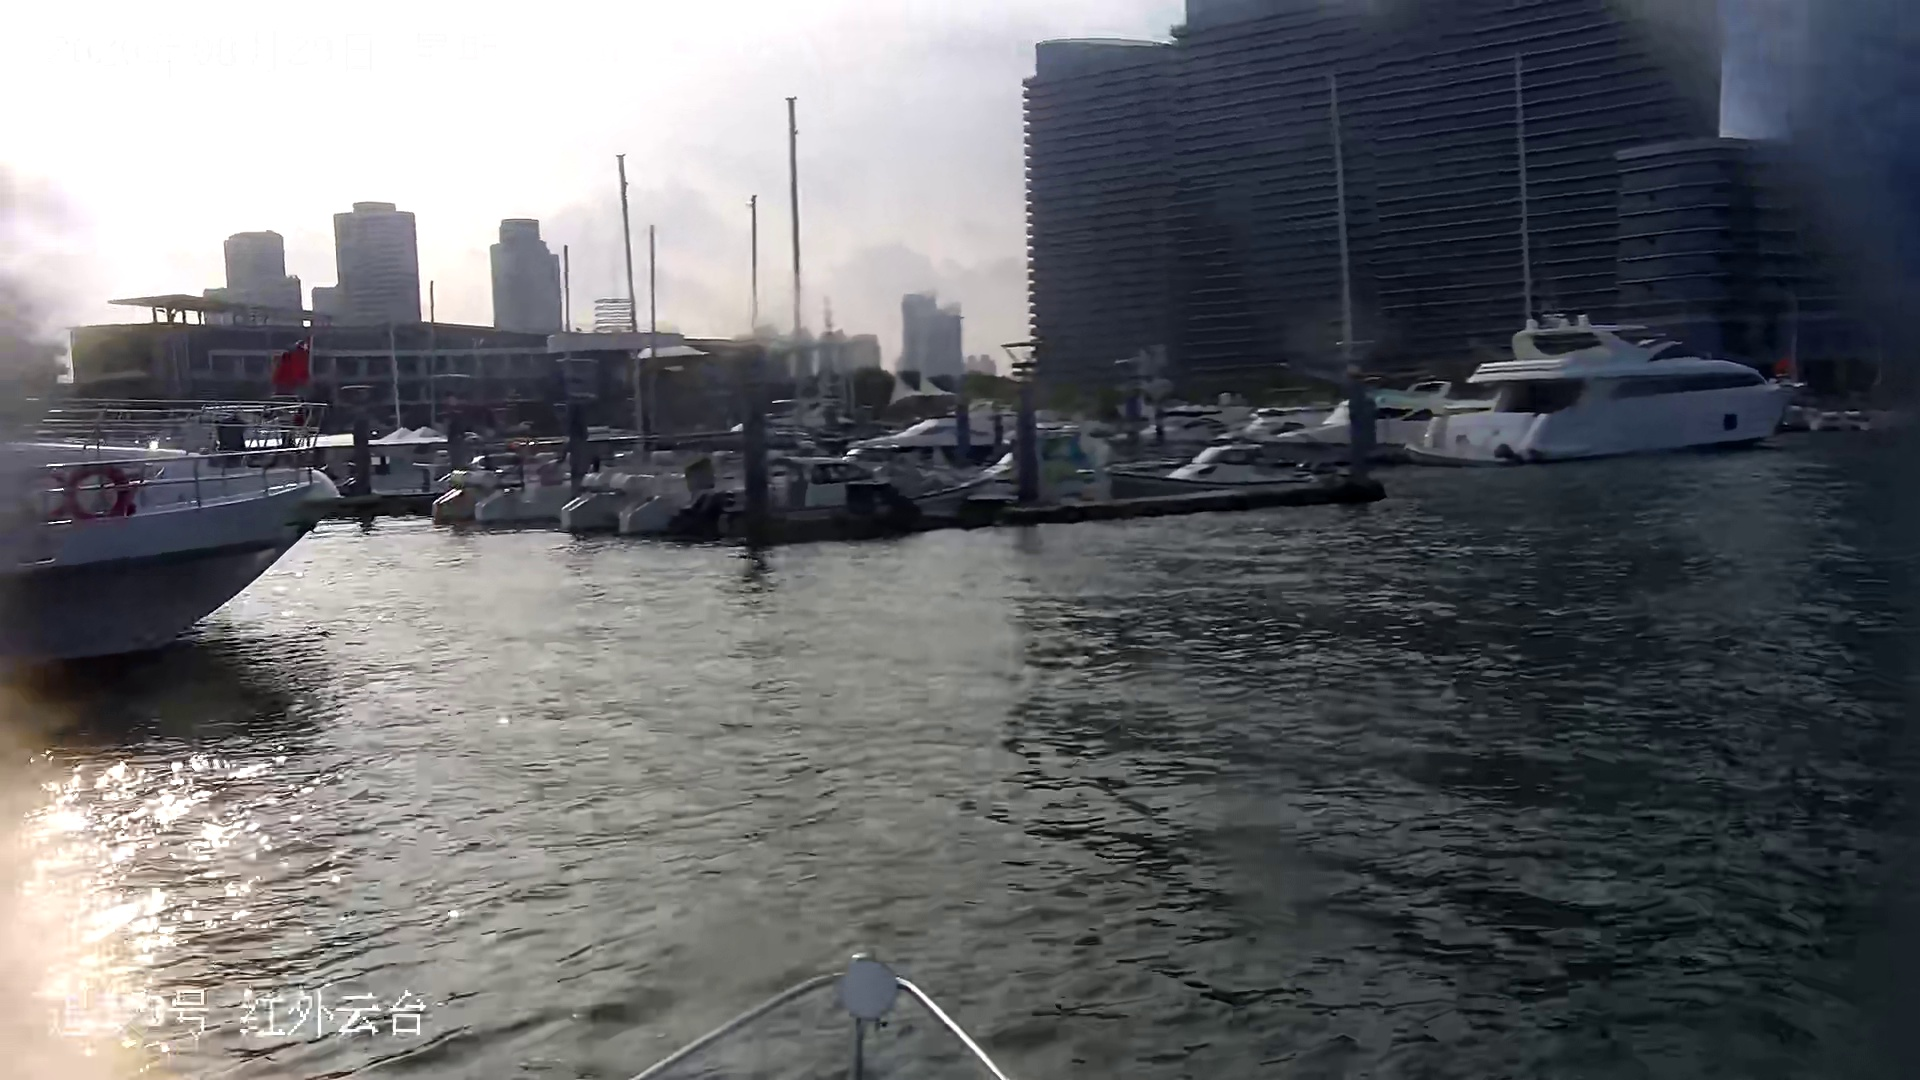barrier: (8, 406, 334, 653), (1419, 315, 1784, 477)
coast: (1, 1, 1920, 669)
